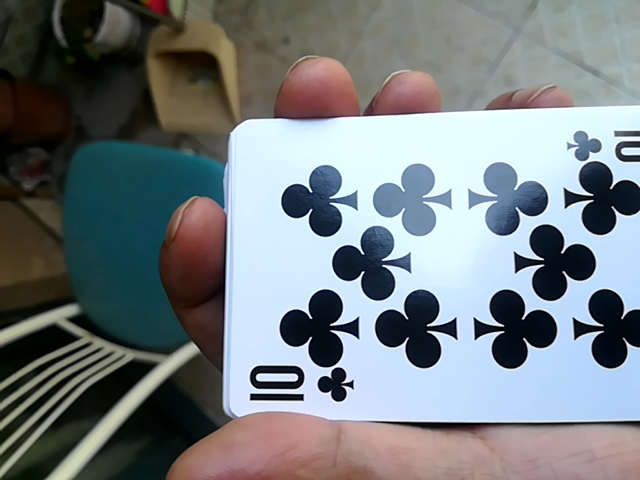mh 10: (204, 101, 626, 430)
